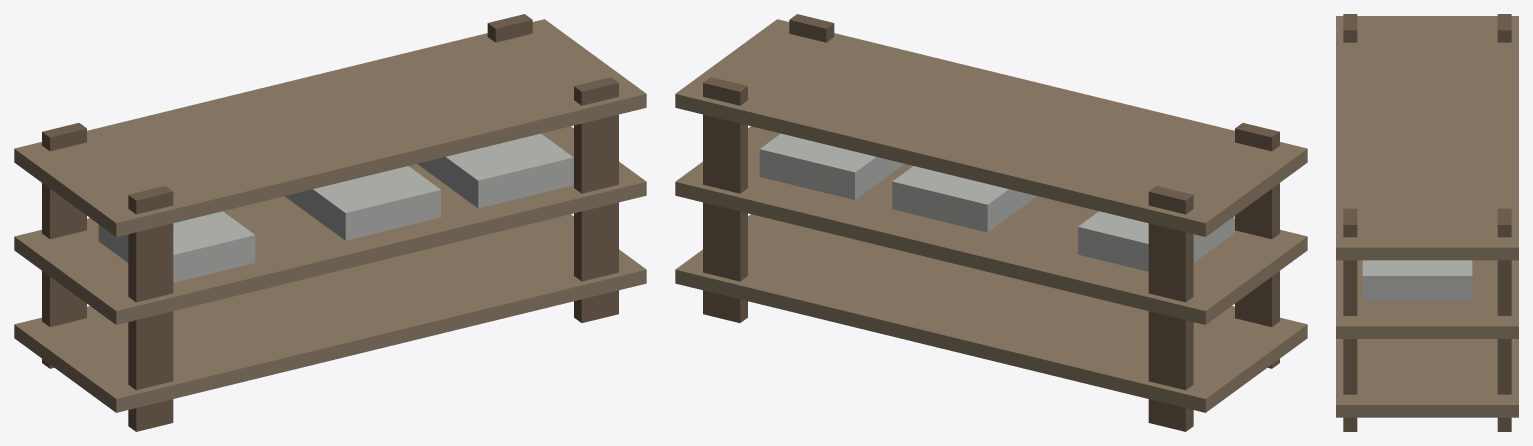
File: evidence_shelf.glb
3 views of the same model, side by side, from view 1: azimuth 30°, elevation 25°; view 2: azimuth 150°, elevation 25°; view 3: azimuth 270°, elevation 25° (orthographic). The views are drawn at different scales.
Parts seen in each view (by area): view 1: evidence_shelf; view 2: evidence_shelf; view 3: evidence_shelf.
Boxes of the visible parts, x1,y1,x2,y2 form: evidence_shelf: (14,14,646,431); evidence_shelf: (675,14,1307,431); evidence_shelf: (1336,14,1518,431).
Bounding box in the file's own units: 2.88 × 1.2 × 0.96.
